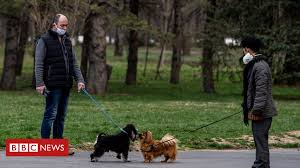Good: (33, 12, 279, 126)
